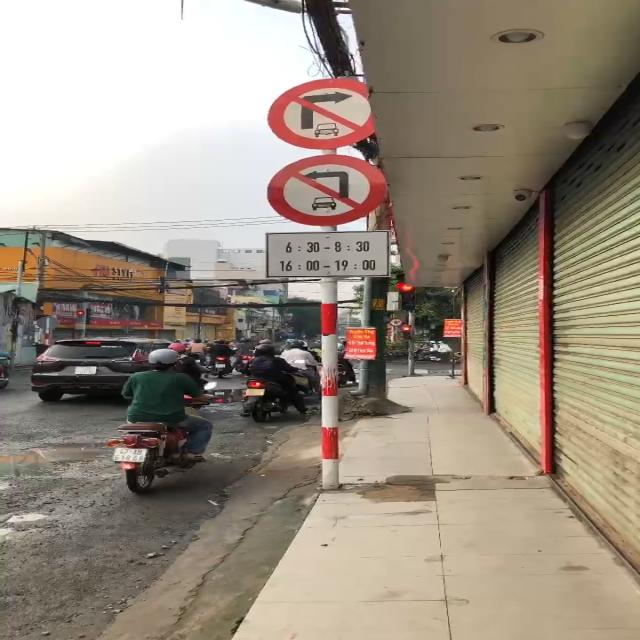Bien bao cam xe o to re phai: (264, 68, 387, 151)
Bien bao cam xe o to re trai: (259, 151, 398, 227)
